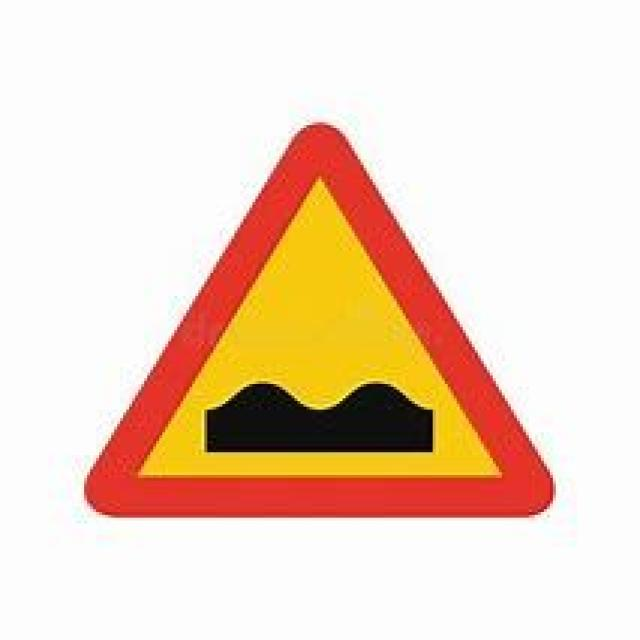BUMPS: (78, 118, 562, 538)
